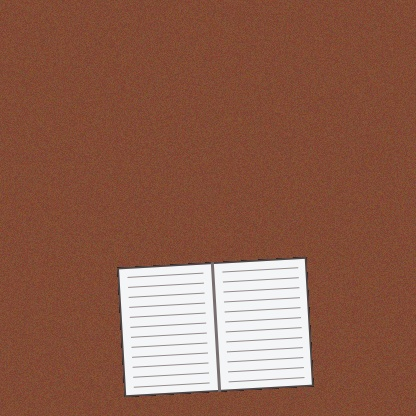book: (117, 257, 314, 397)
